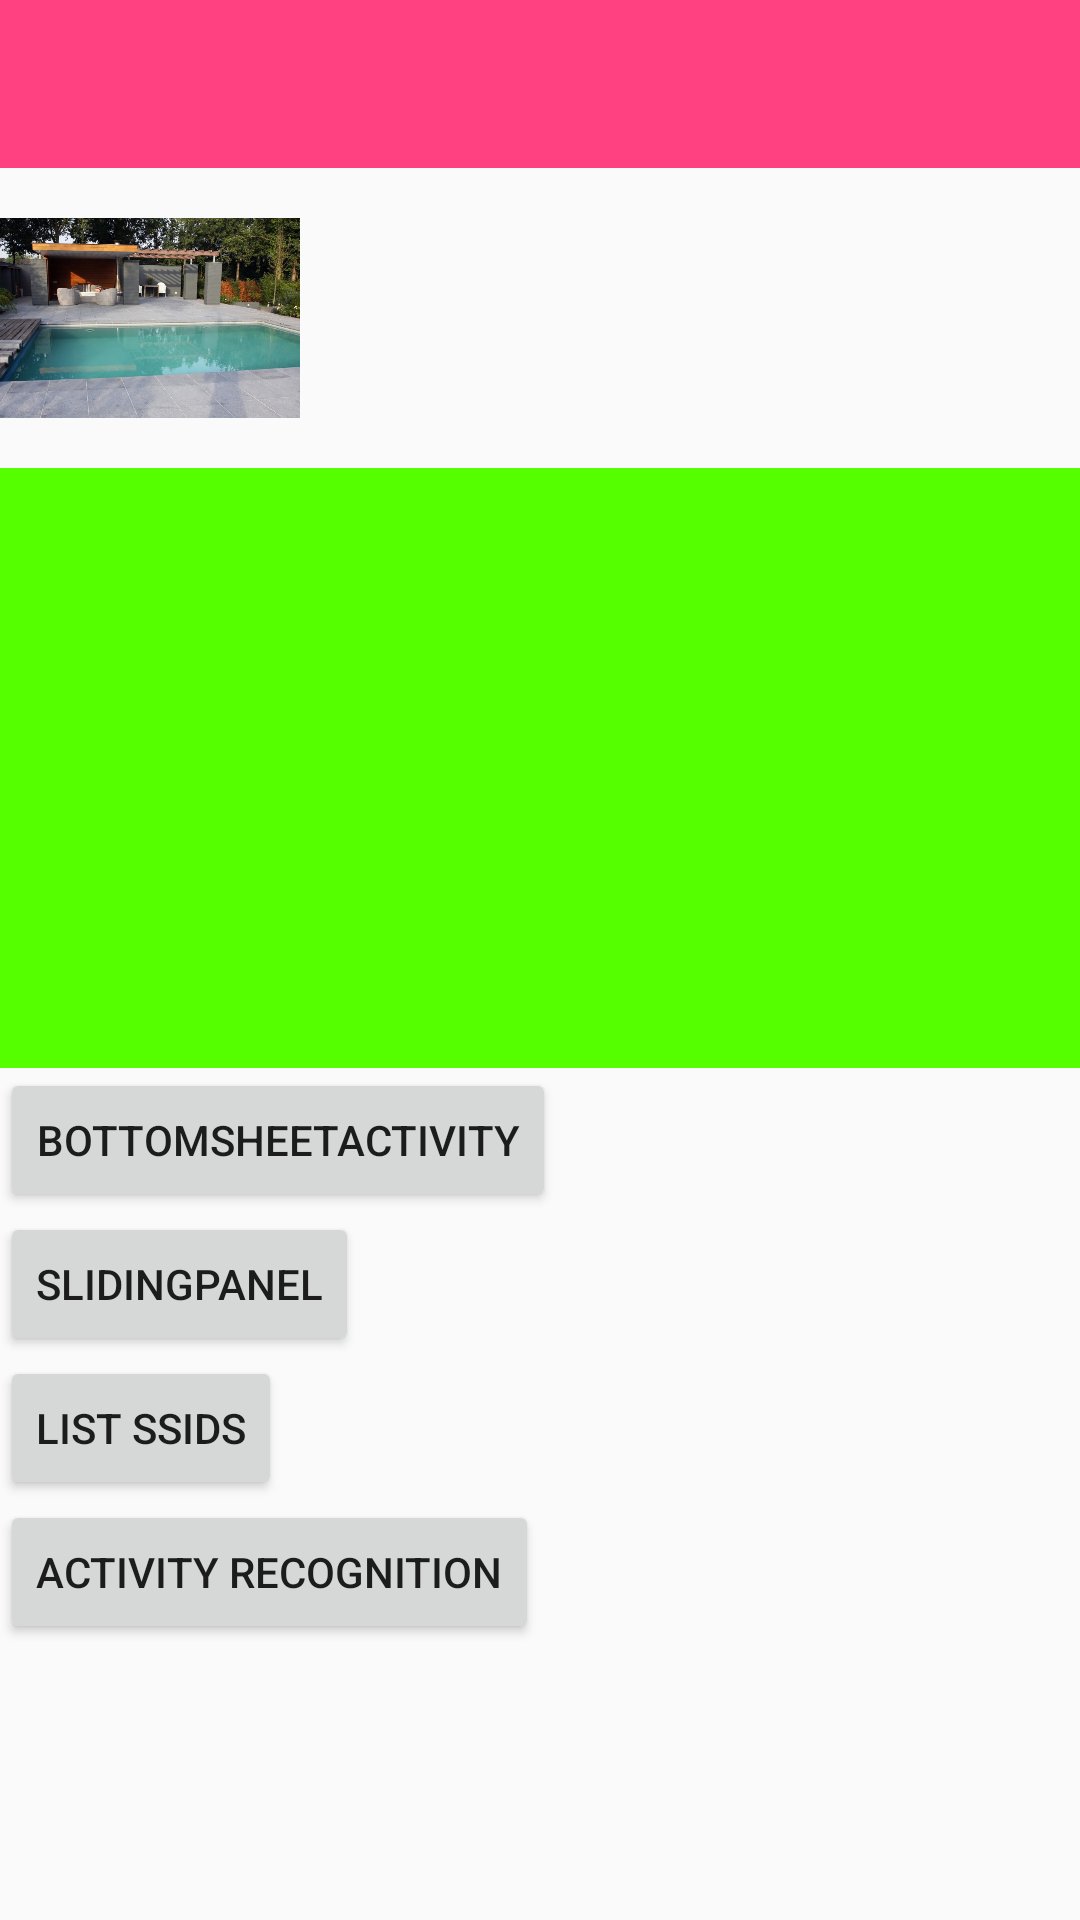

Icon click points for this 1080w x 1920h phone screenshot, format [x,y]:
poolhouse: [150,318]
